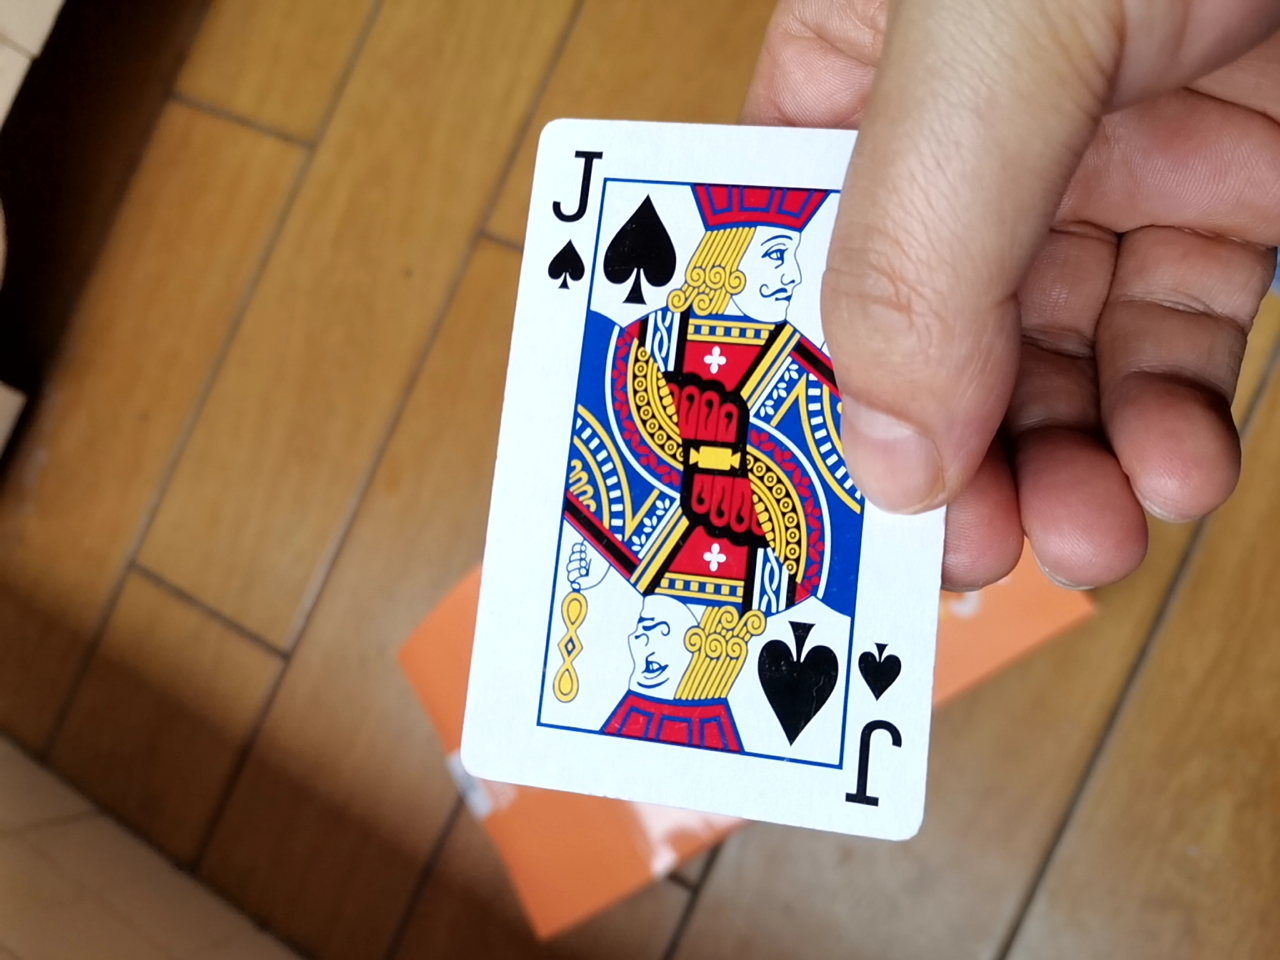ht j: (464, 130, 916, 845)
